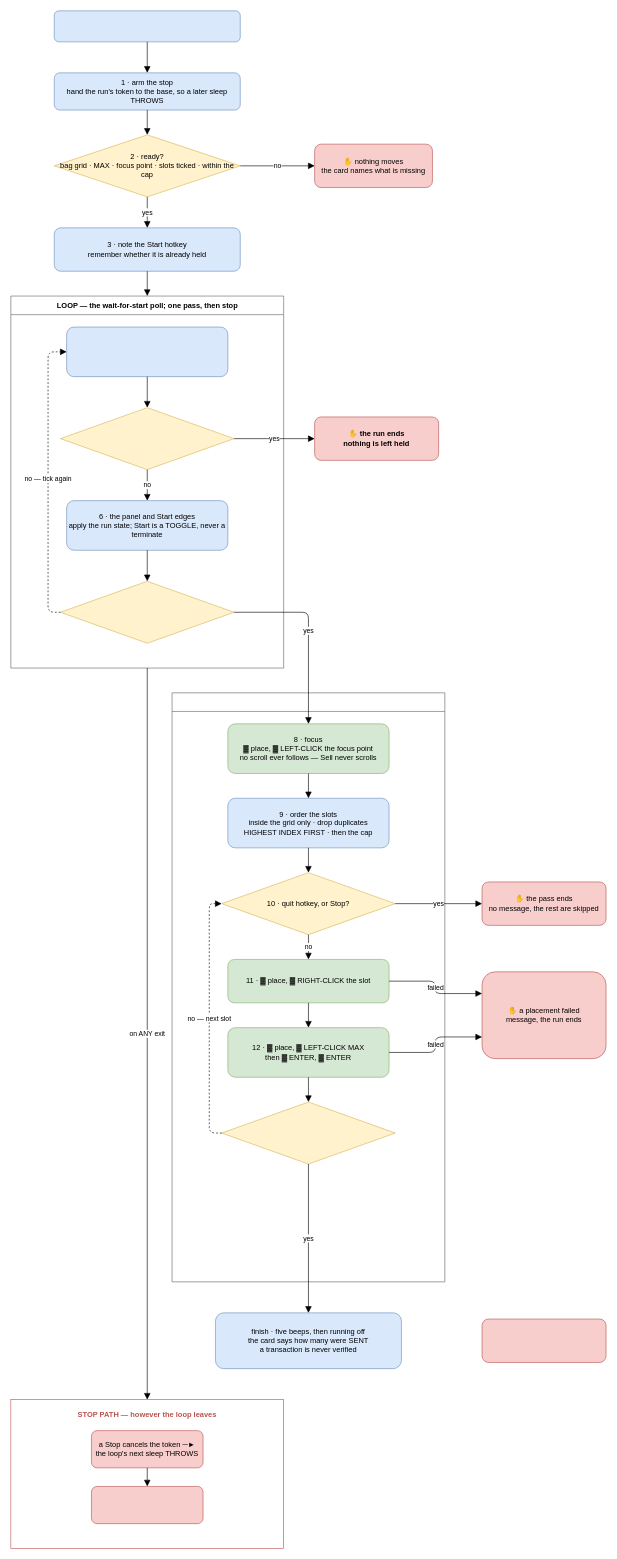
This 617x1559 diagram has some shape labels left out. The box of each missing label's shape, as (x1, y1, x2, y2) in pixels:
13 · all slots done?: (221, 1101, 395, 1164)
4 · wait · watch sleep 0.05; a Stop or the quit hotkey is seen here: (66, 326, 228, 377)
5 · quit hotkey held, or Stop?: (60, 407, 234, 470)
7 · running?: (60, 581, 234, 643)
ONE PASS — SellPass: right-click each slot, then MAX, Enter, Enter: (171, 692, 445, 1282)
Run — Sell Items ONE PASS, then stop: a counted job, never a loop of its own: (54, 10, 240, 42)
the finally runs running off · "Done." · return: (91, 1486, 203, 1524)
✋ the run ends by itself: (481, 1318, 606, 1362)
